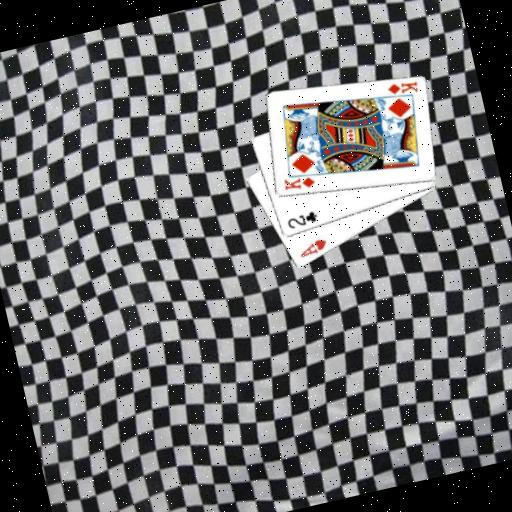2C: (283, 208, 321, 232)
AH: (295, 235, 331, 260)
KD: (279, 170, 318, 196), (384, 76, 421, 101)
